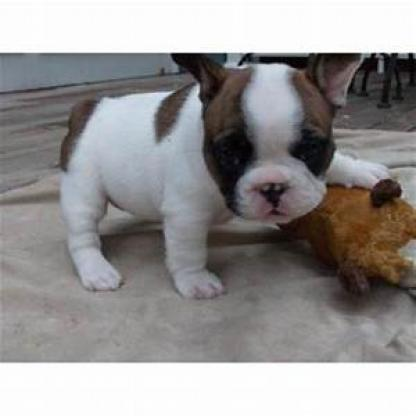dog: (57, 51, 394, 298)
